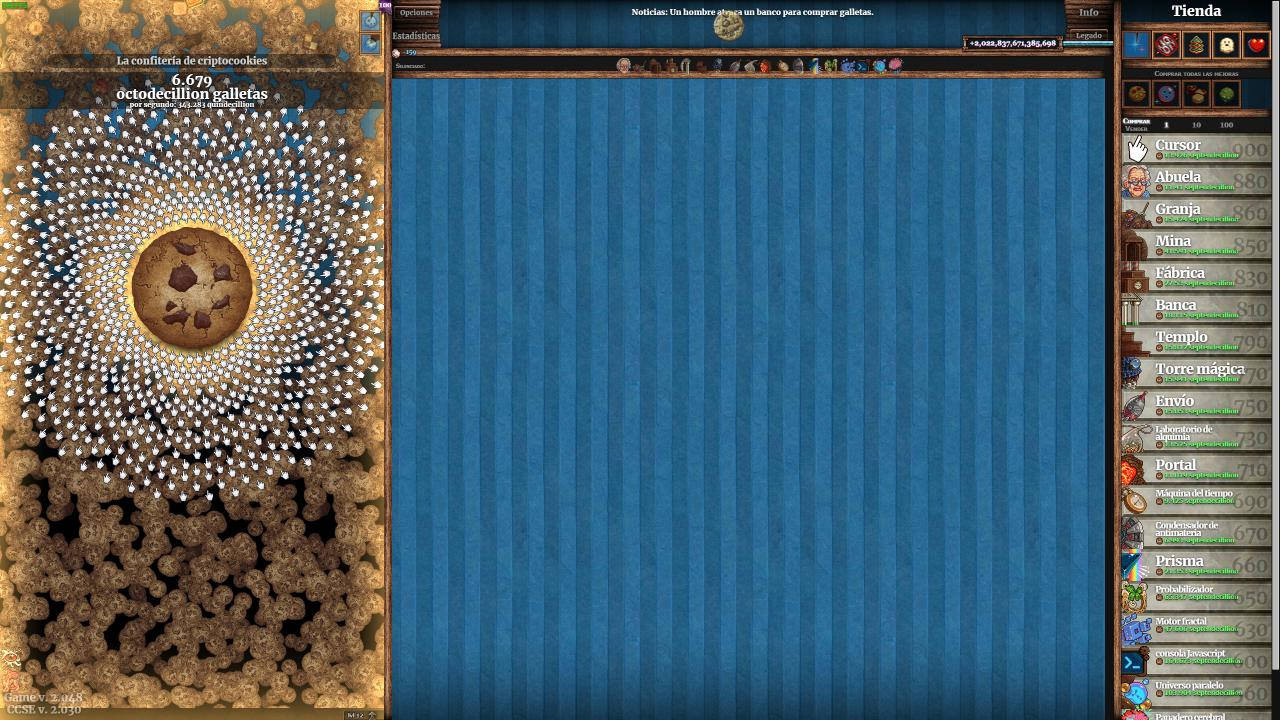GoldenCookie: (712, 9, 746, 43)
